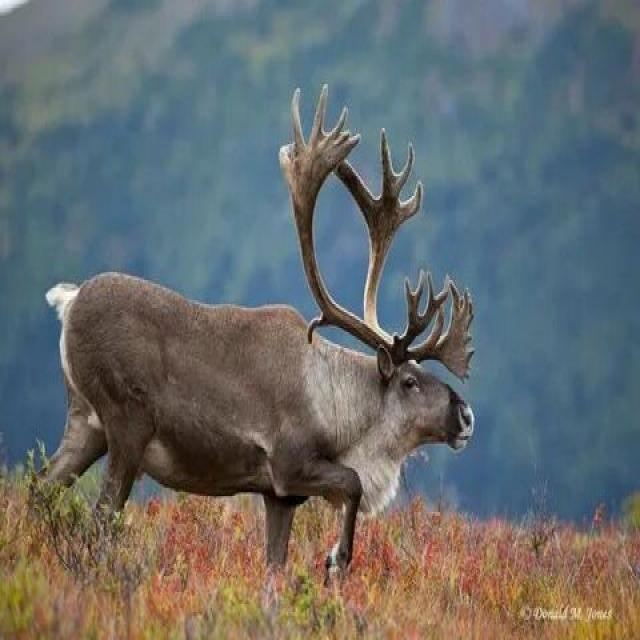deer: (59, 127, 487, 577)
